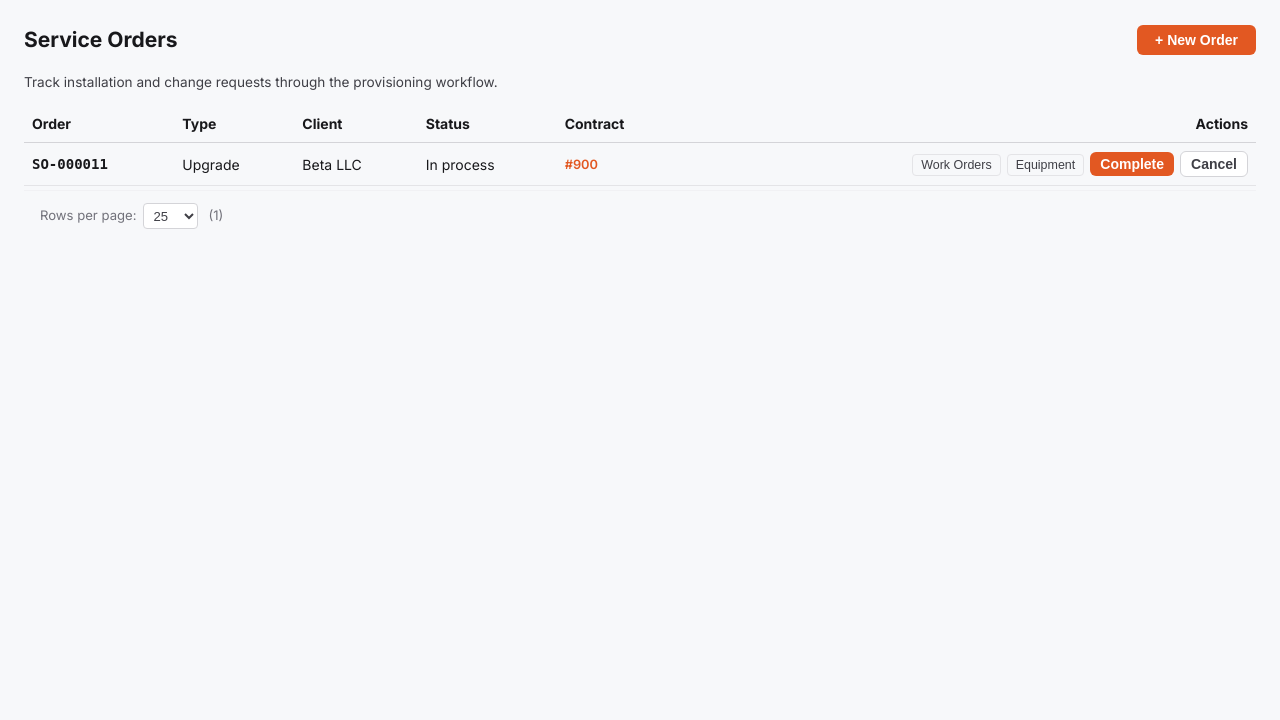
Test case: ServiceOrderList page › opens the Complete dialog, gates submit on a fee for create_invoice, and shows the invoice confirmation
Click the button "Complete" at (1132, 164), box [1090,152,1174,176]
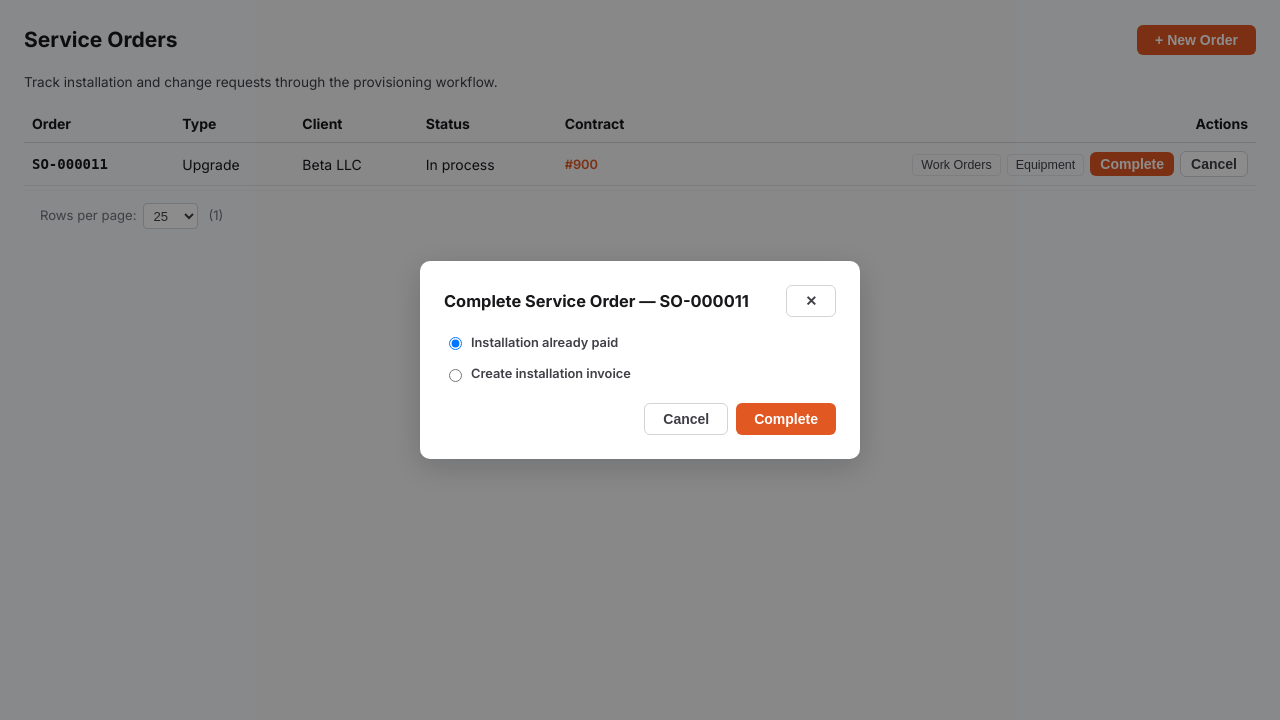
Click the text "Create installation invoice" at (540, 374), box [449,366,631,382]
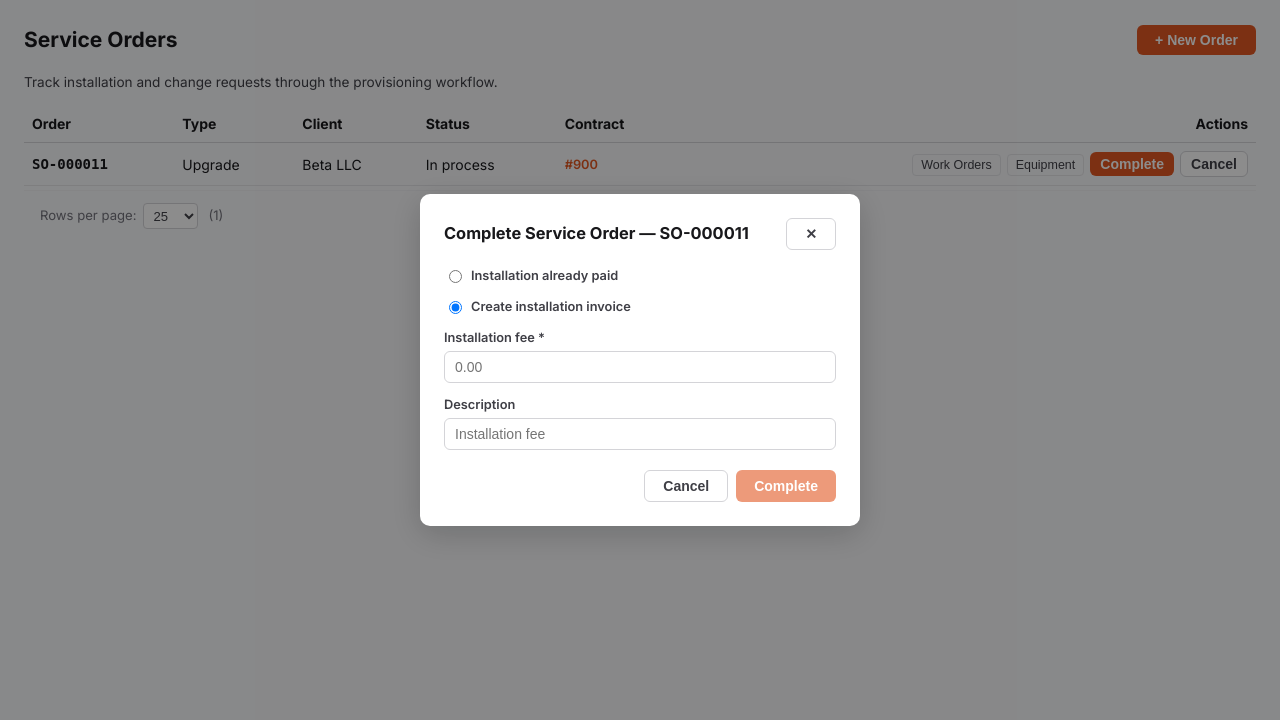
Now the button "Complete" is disabled, box [736,470,836,502]
Type "500" into the number field with placeholder "0.00" at (640, 367), box [444,351,836,383]
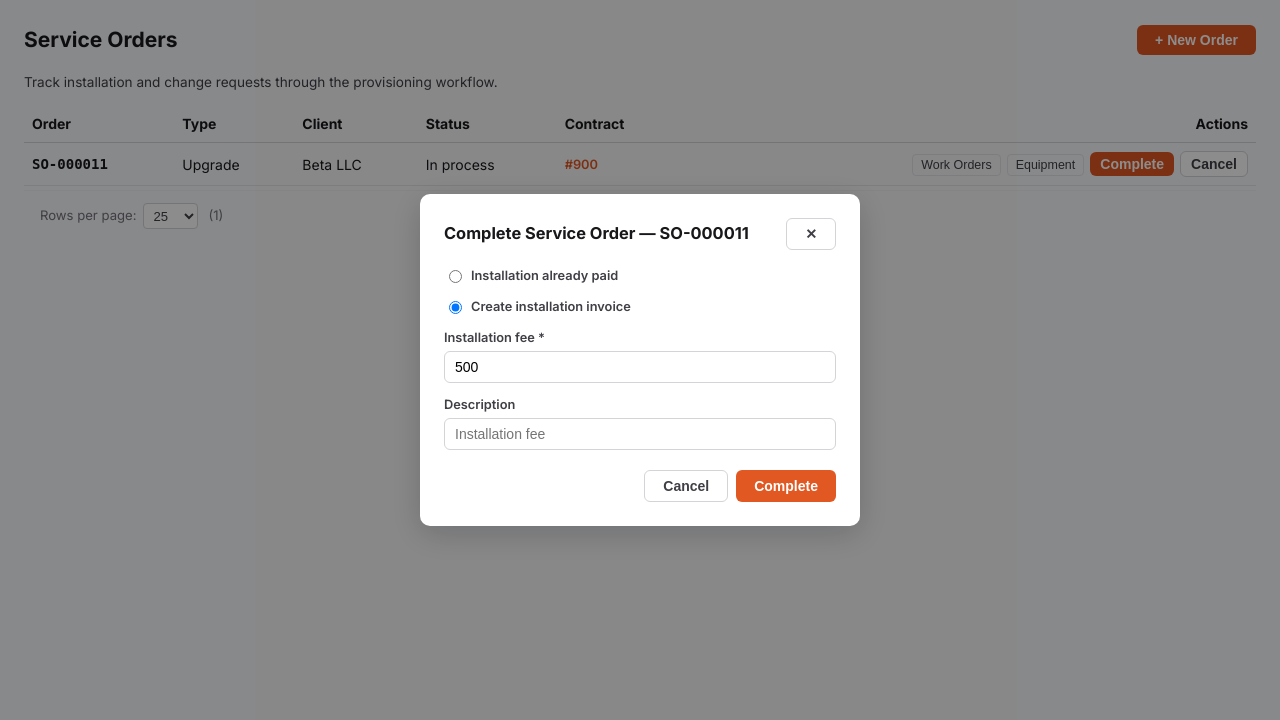
Now the button "Complete" is enabled
Click the button "Complete" at (786, 486), box [736,470,836,502]
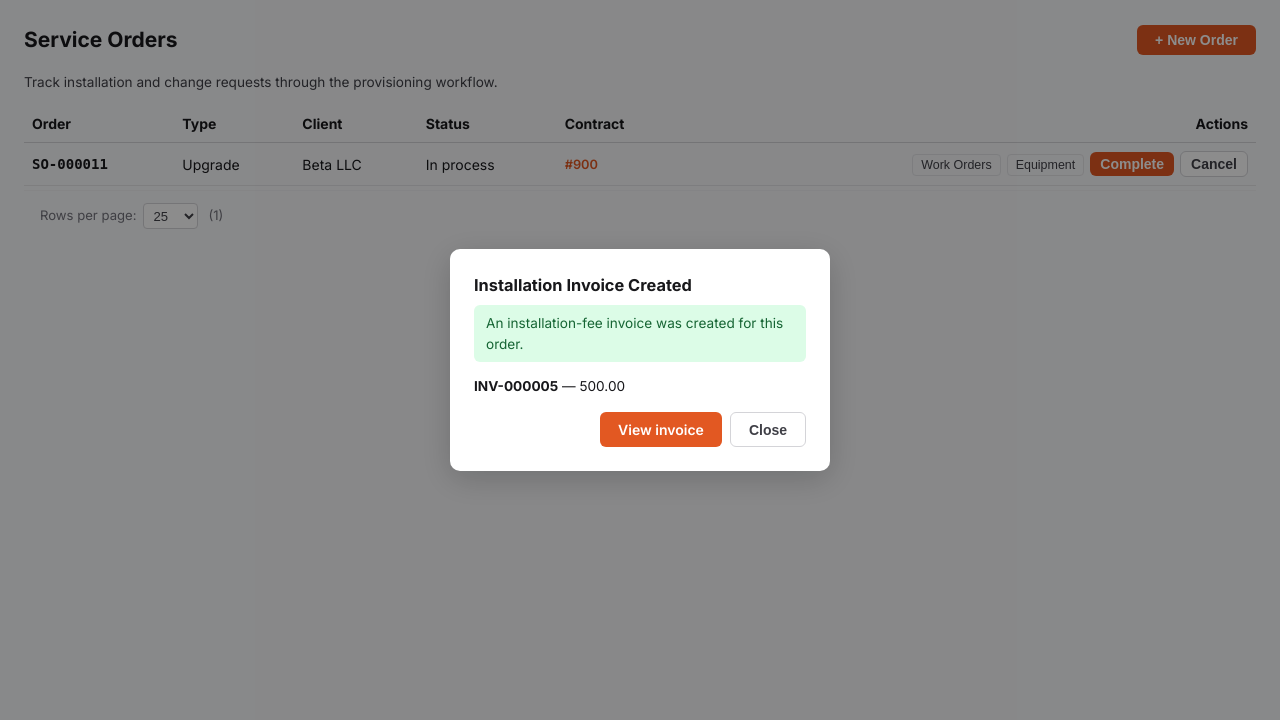
Now the text "INV-000005" is shown, box [474,378,558,394]
